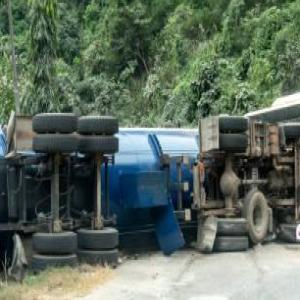serious: (0, 103, 300, 276)
